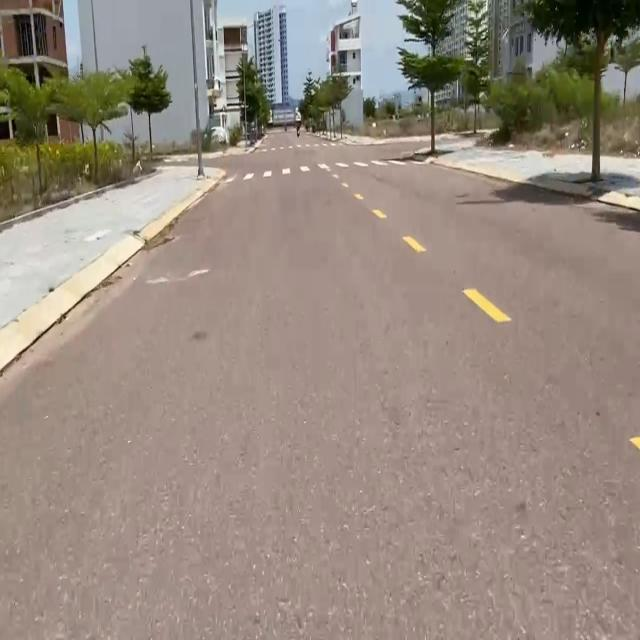walk-crossing: (228, 154, 422, 188)
